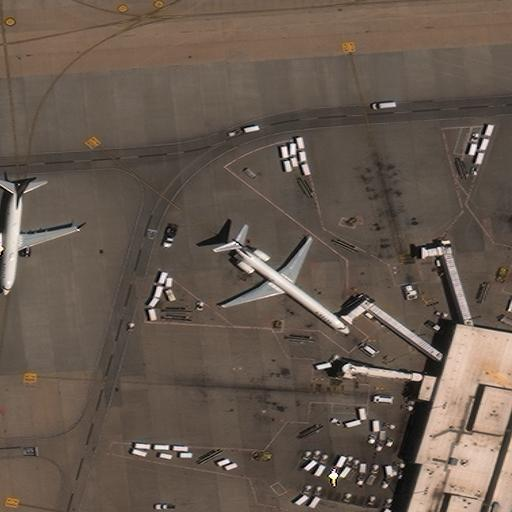Large Civil Transport: (0, 177, 80, 295)
Medium Civil Transport: (225, 238, 349, 333)
